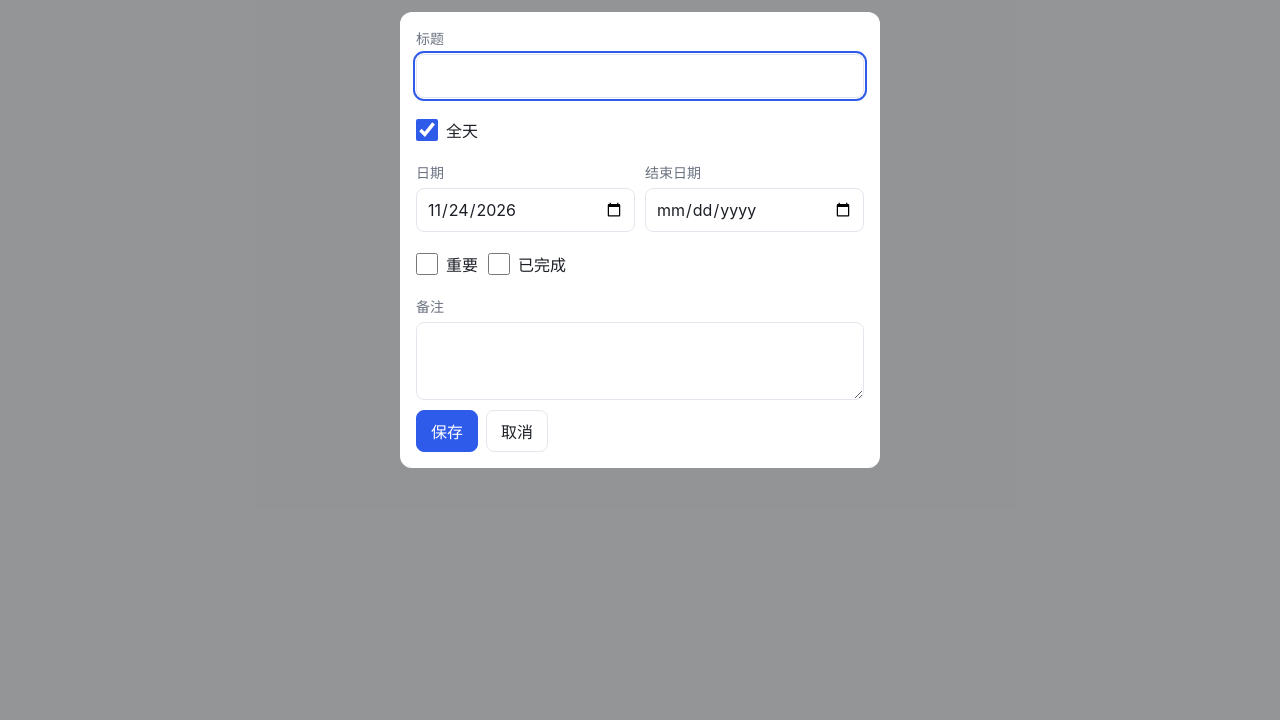
any other invalid content says 填写的内容有误
Type "x" into the field labelled "标题" at (640, 76), box x1=416 y1=54 x2=864 y2=98
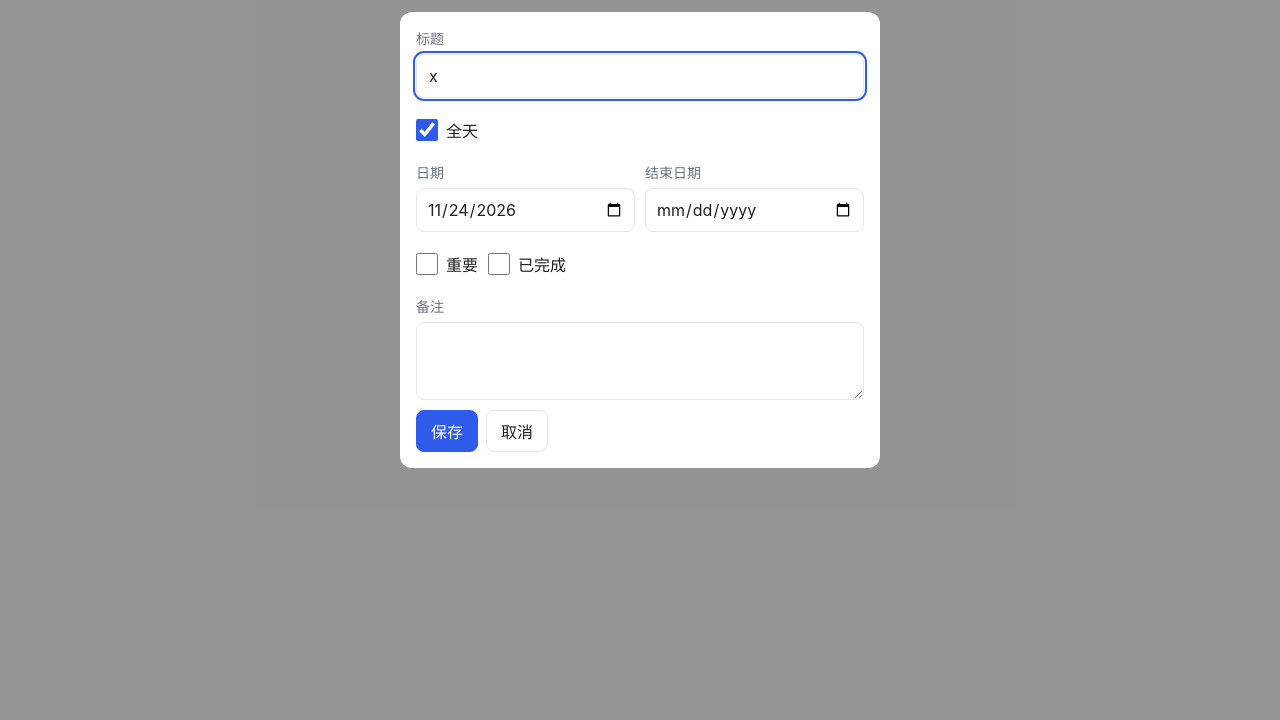
Click the checkbox labelled "全天" at (427, 130), box x1=416 y1=119 x2=438 y2=141
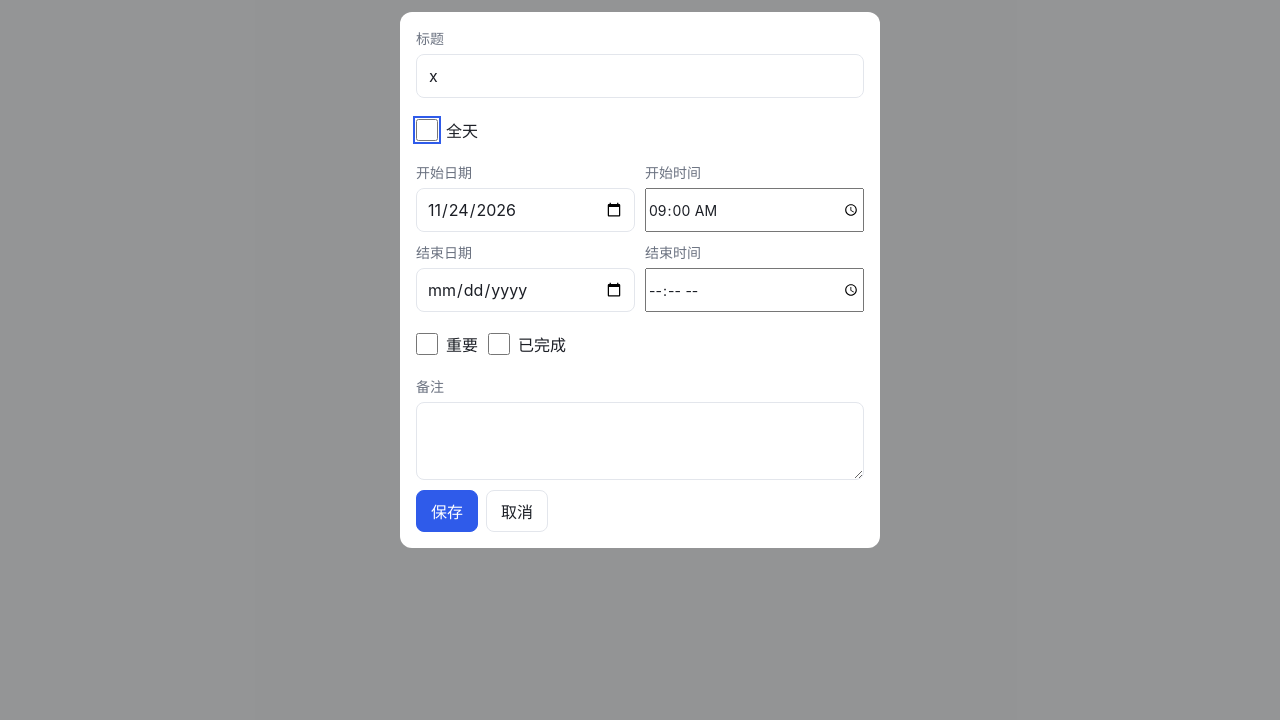
Clear the time field labelled "开始时间" at (754, 210), box x1=645 y1=188 x2=864 y2=232
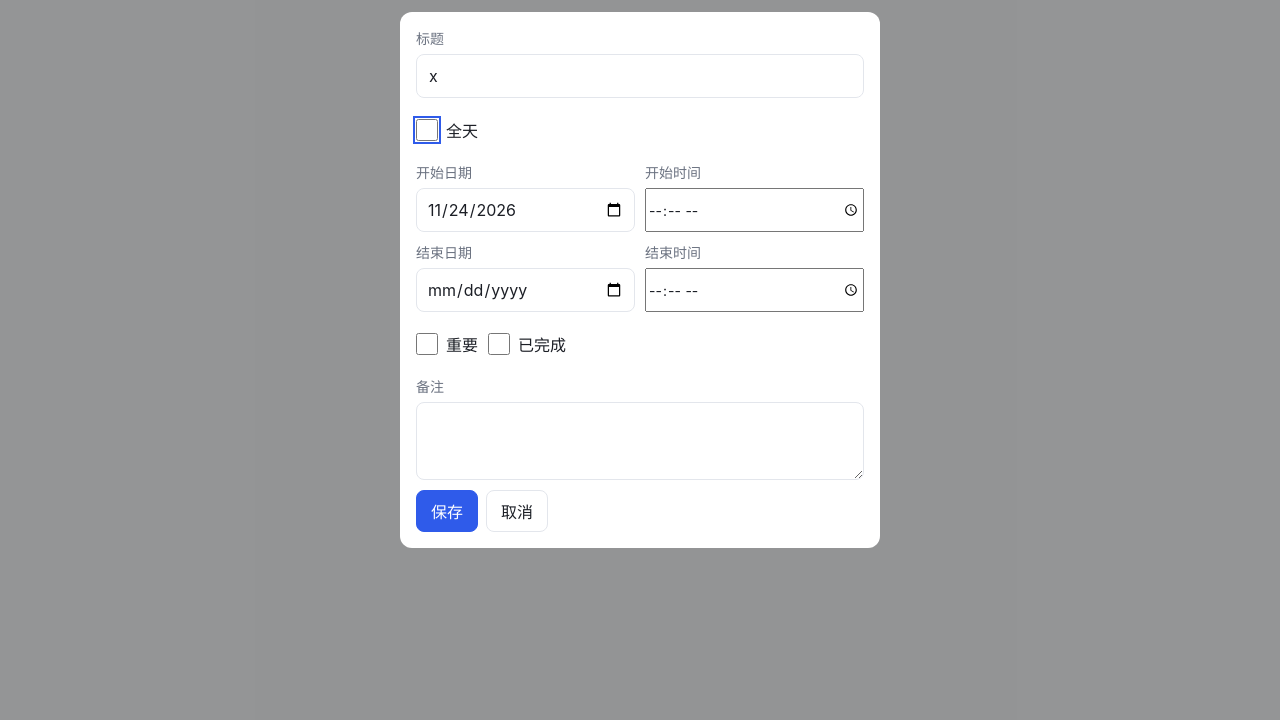
Click the button "保存" at (447, 511), box x1=416 y1=490 x2=478 y2=532
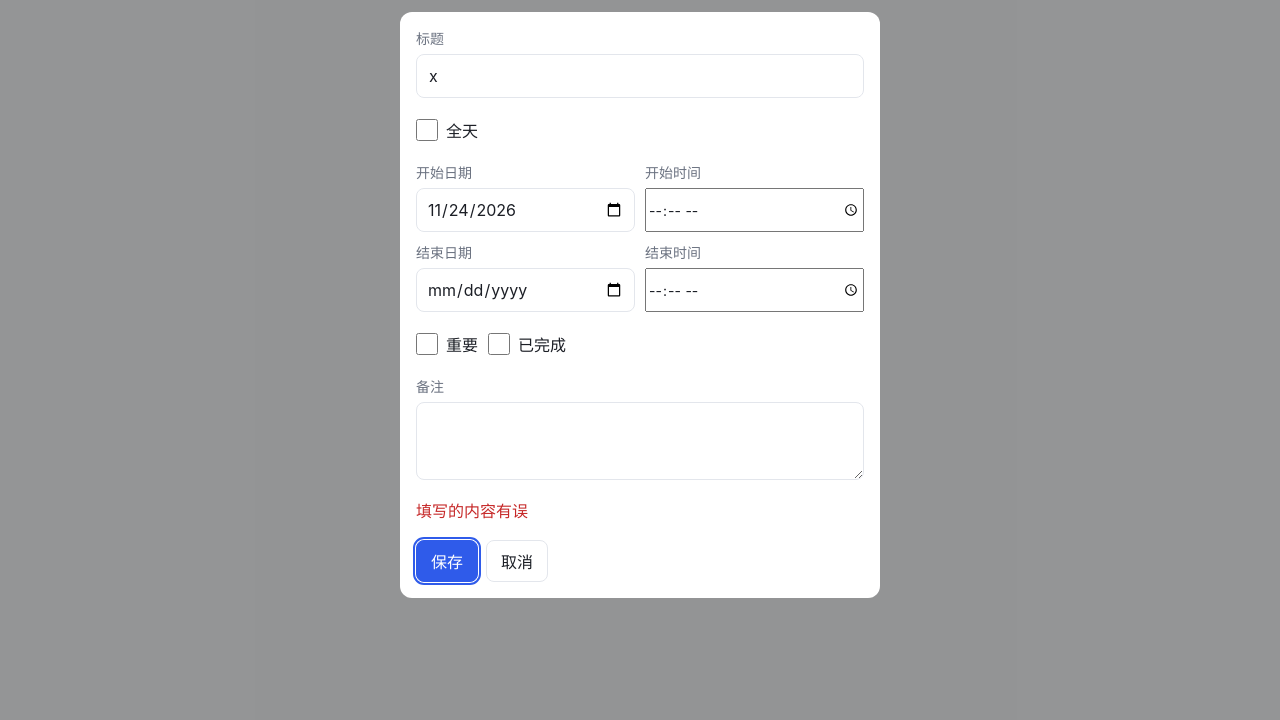
Result: the message reads "填写的内容有误" at x1=416 y1=501 x2=528 y2=521
